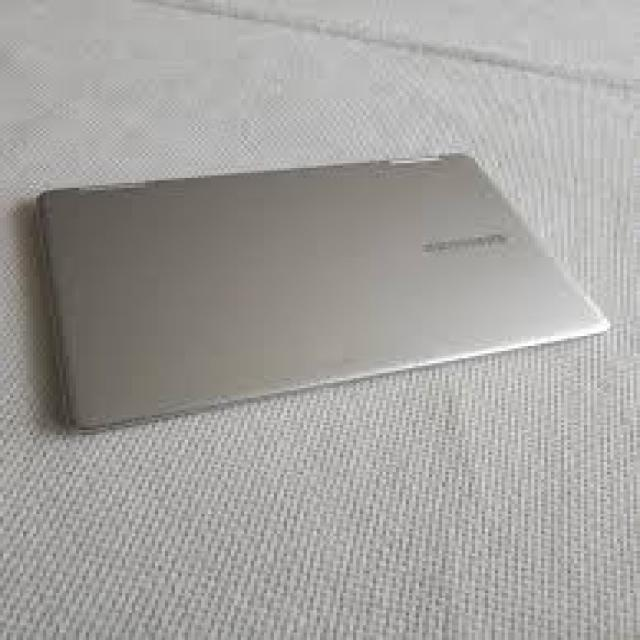laptop: (33, 151, 610, 432)
